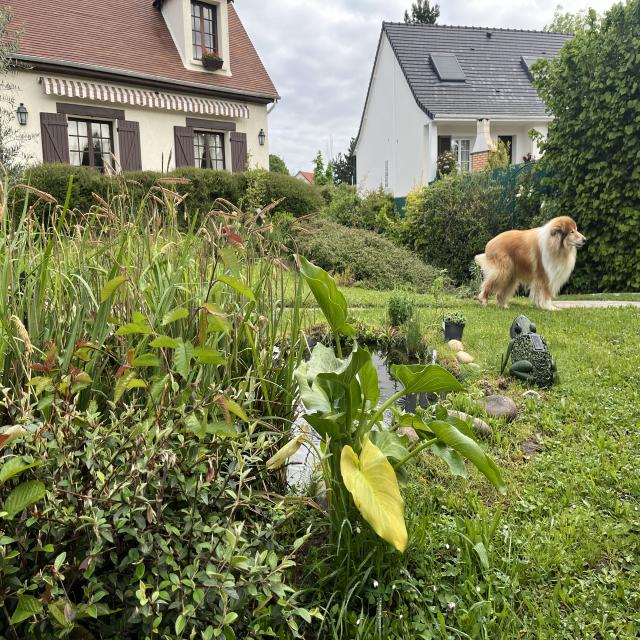Dog: (468, 208, 580, 317)
